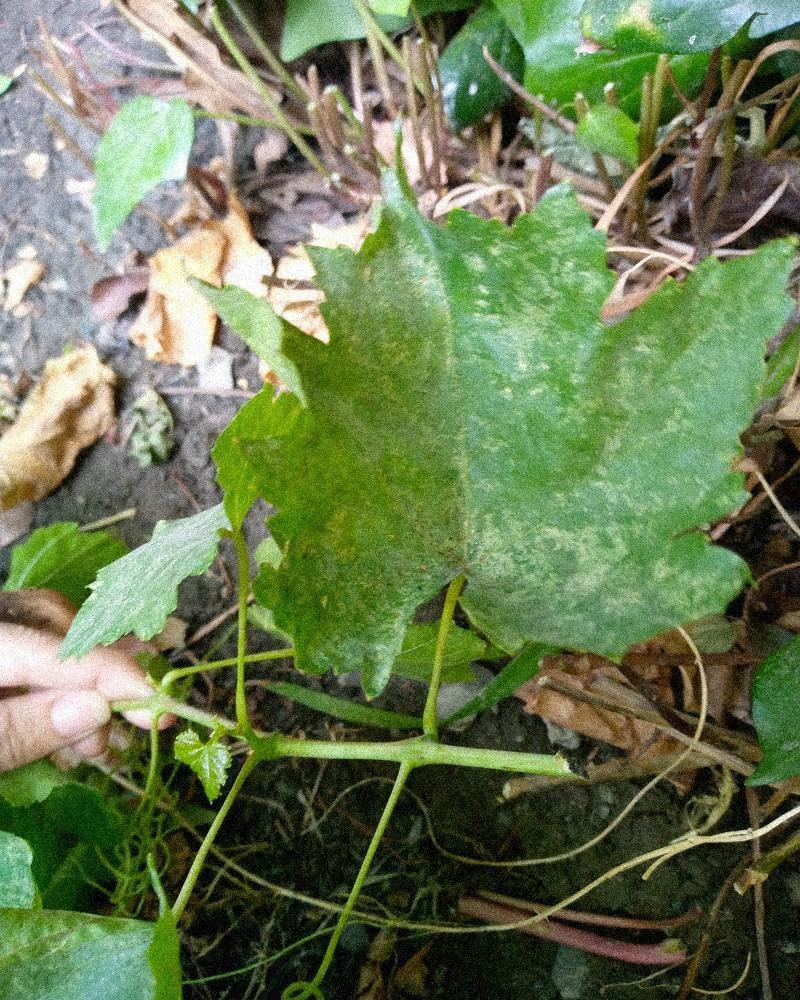Powdery-Mildew: (525, 467, 713, 620), (299, 479, 426, 601), (576, 330, 707, 433), (352, 236, 455, 353), (520, 200, 603, 308), (461, 232, 524, 295), (482, 312, 545, 375), (456, 515, 519, 578), (331, 613, 394, 676)
